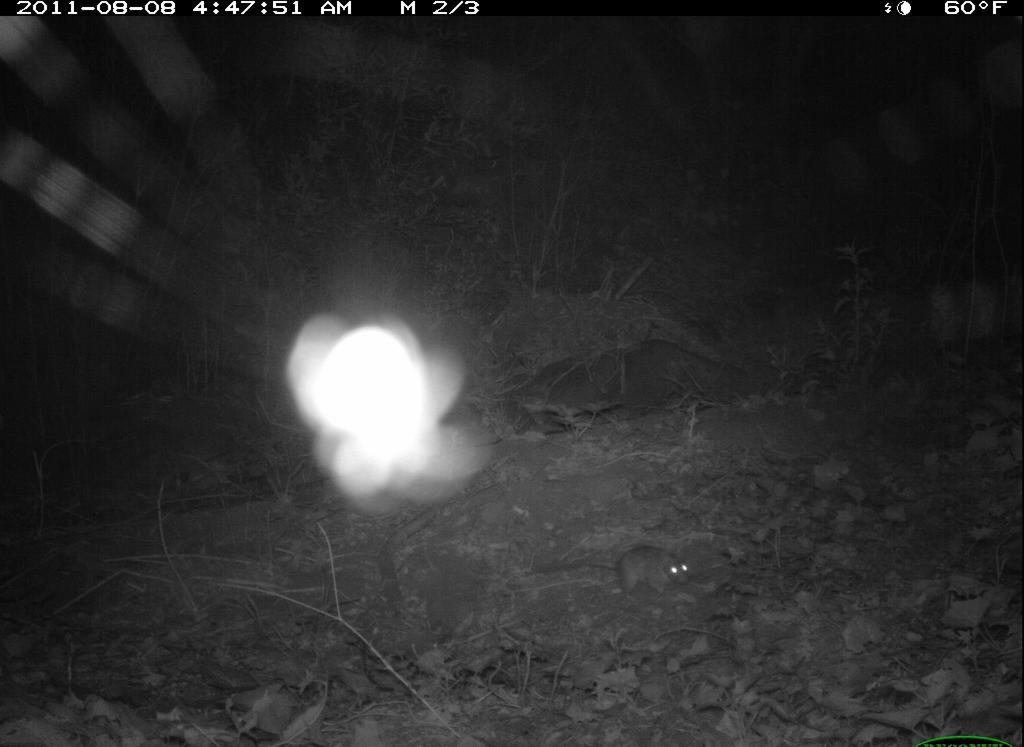rodent: (527, 544, 696, 603)
